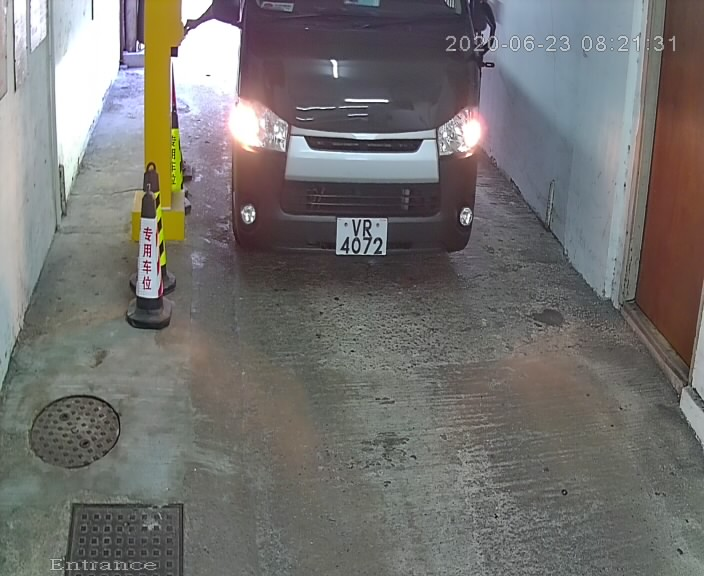van_s: (211, 1, 490, 291)
